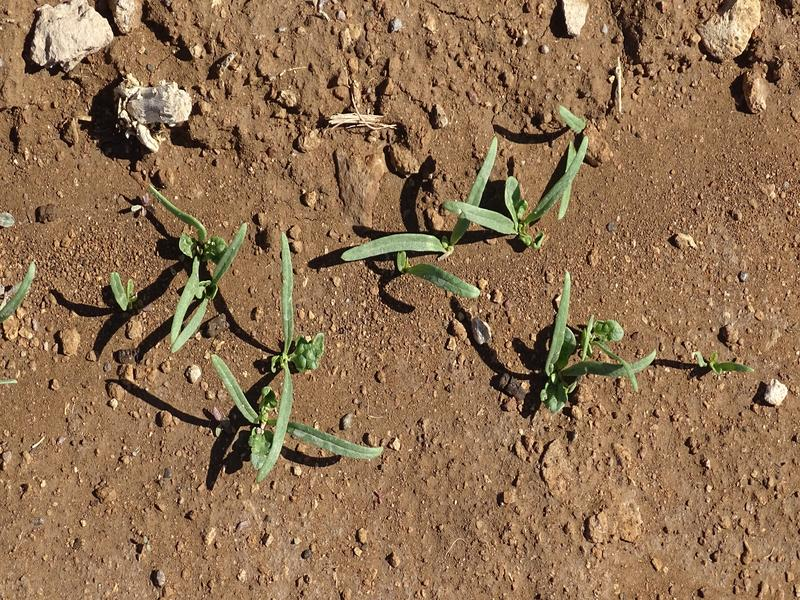Espinaca: (145, 191, 326, 470), (336, 142, 585, 281), (507, 275, 662, 416)
